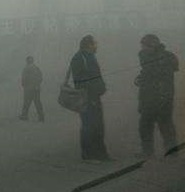person: (57, 34, 116, 165), (134, 33, 180, 159), (18, 55, 46, 121)
